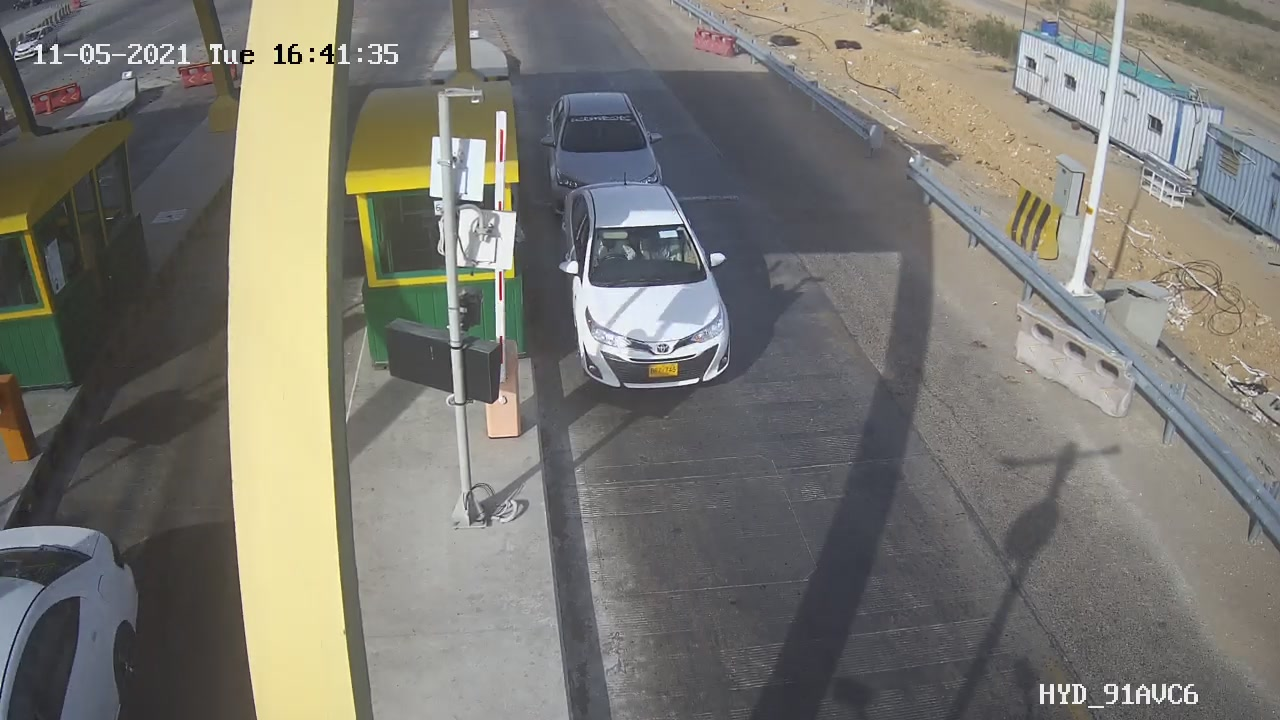F1: (543, 174, 761, 409)
